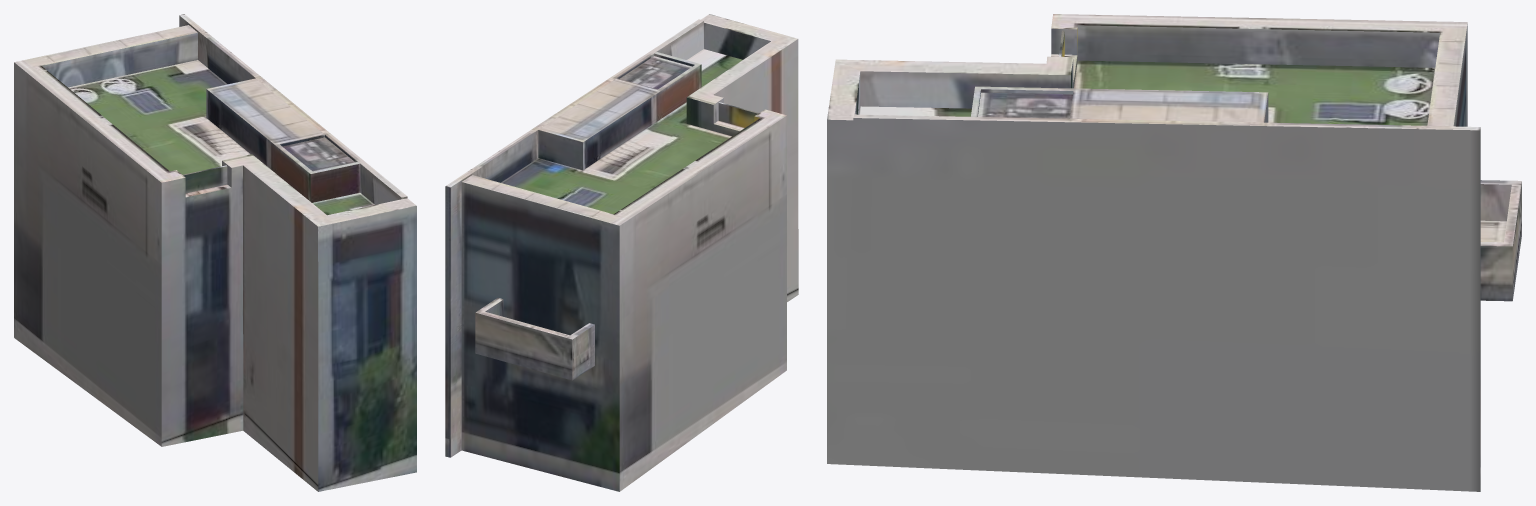
The picture shows the model from 3 angles, left to right: view 1: azimuth 30°, elevation 25°; view 2: azimuth 150°, elevation 25°; view 3: azimuth 270°, elevation 25°; orthographic projection. The views are drawn at different scales.
Parts seen in each view (by area): view 1: B285054034301062A0; view 2: B285054034301062A0; view 3: B285054034301062A0.
Boxes of the visible parts, bbox=[...] form: B285054034301062A0: bbox=[14, 14, 416, 491]; B285054034301062A0: bbox=[445, 14, 798, 491]; B285054034301062A0: bbox=[827, 14, 1521, 491].
Bounding box in the file's own units: 6.69 × 9.51 × 16.55.
Materials: 1 (1 with a texture image).
